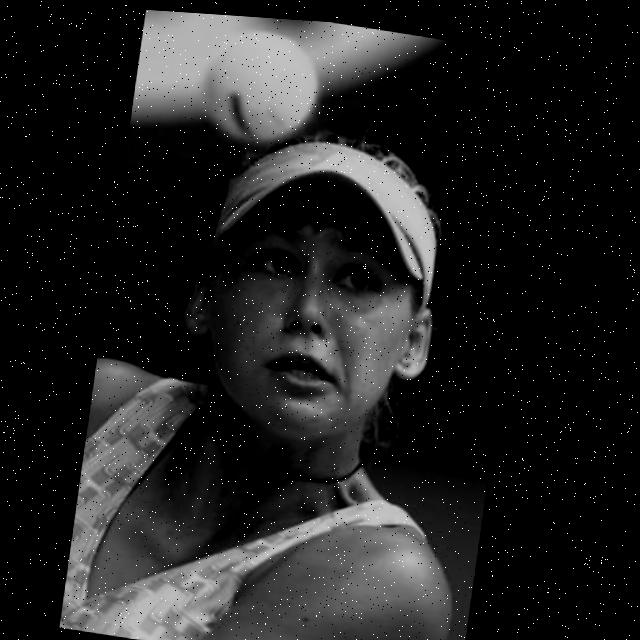face: (175, 138, 440, 467)
